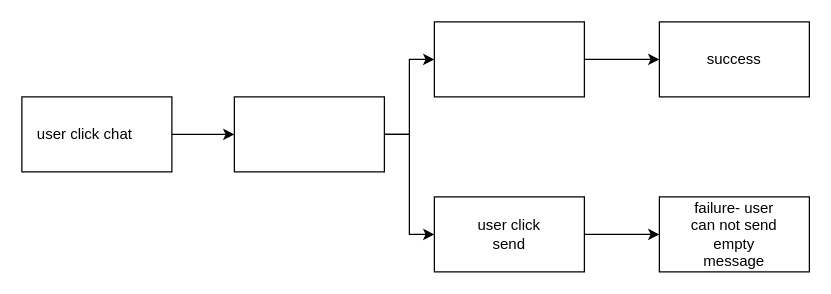
The diagram is 831 pixels wide and 294 high, and some of its shapes have lost their labels. The shapes that lost their labels are listed below. From the top down, each one's box as (x1, y1, x2, y2) in pixels, then its label:
(433, 21, 584, 97): user type in message and click send
(233, 96, 384, 172): user choose a person/group to chat
